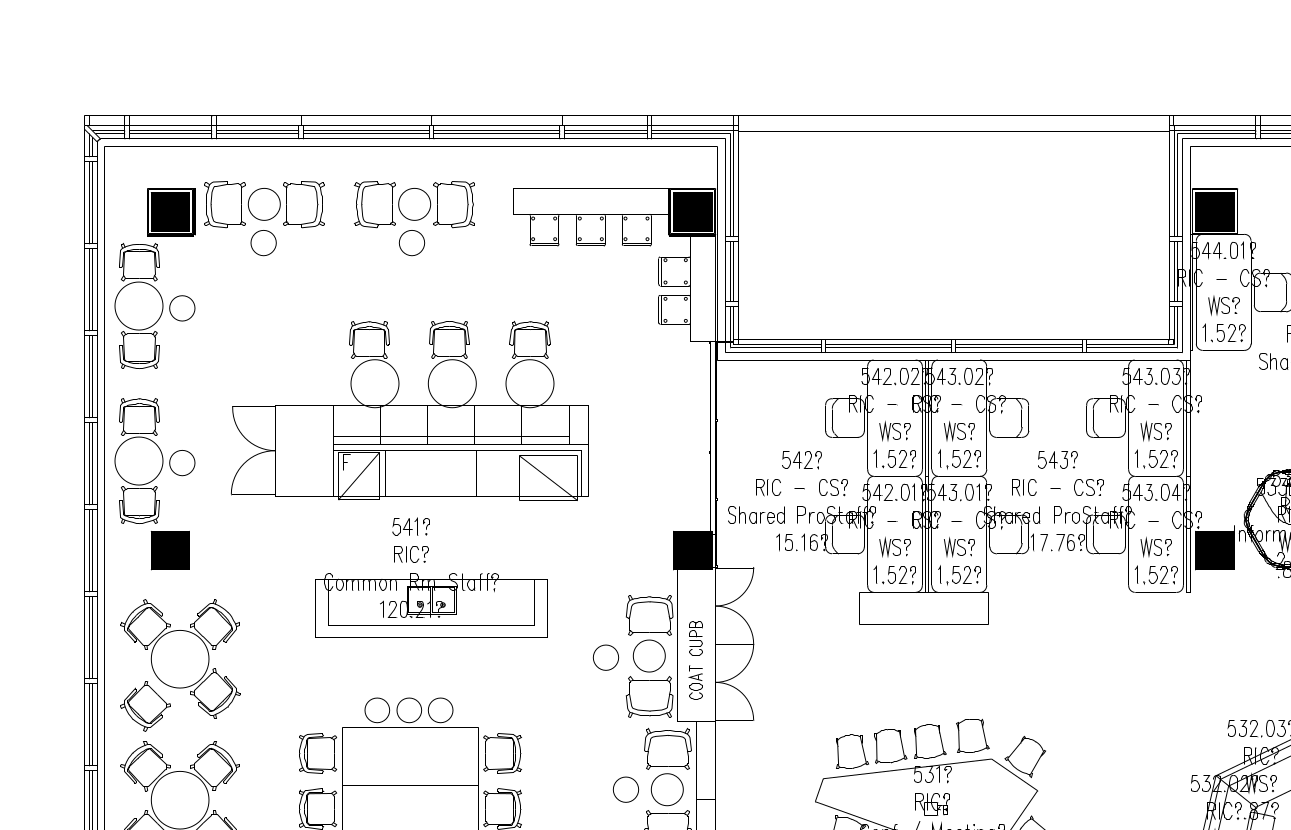door: (225, 399, 276, 503), (715, 564, 764, 645), (714, 641, 763, 722)
